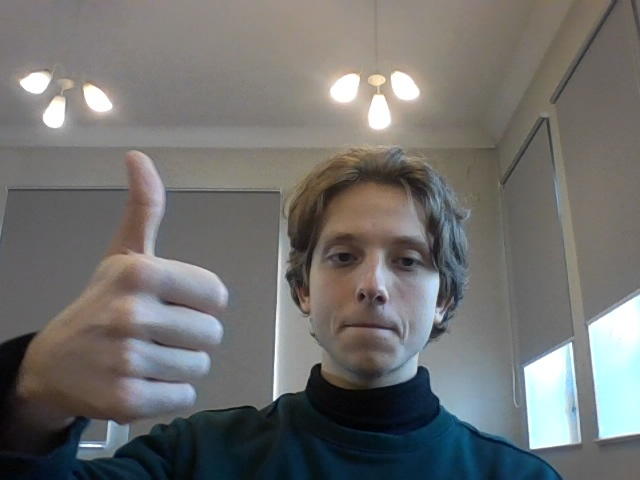thank you: (71, 151, 234, 428)
